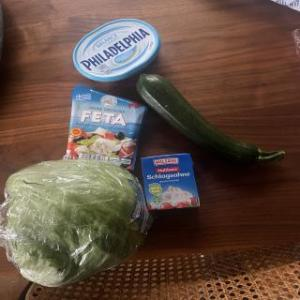zucchini: (128, 75, 284, 165)
